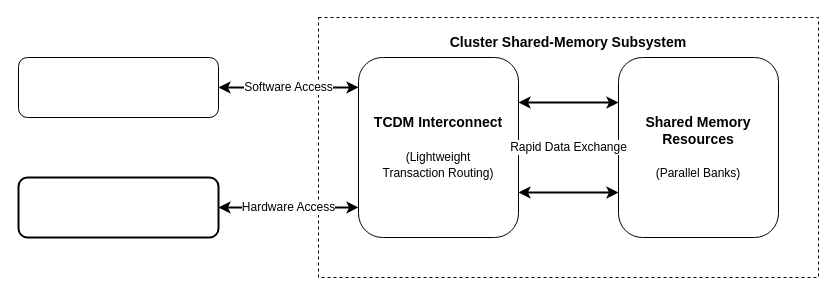
Some shapes in this 836 by 295 pixel diagram are drawn without their labels. The shapes that lost their labels are listed below. From the top down, each one's box as (x1, y1, x2, y2) in pixels, then its label:
(18, 56, 218, 118): Processing Elements (Software Cores)
(17, 176, 219, 238): Butterfly Accelerator (Shared-Memory Participant)
